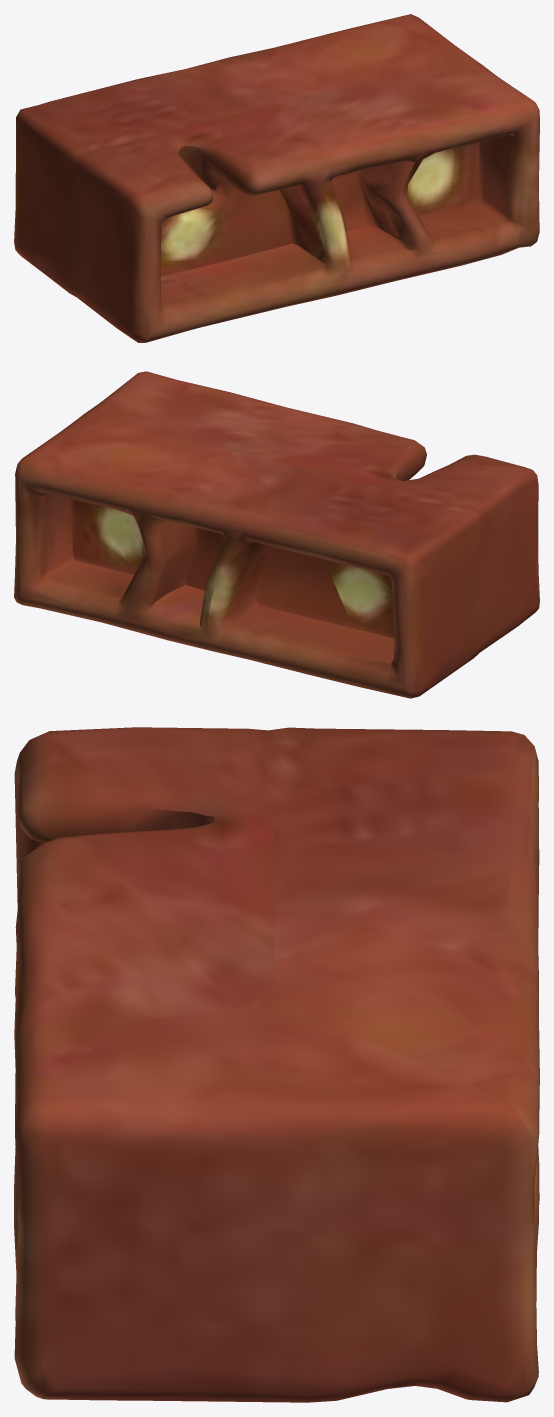
Rendered from sign_dash_idle.glb.
The picture shows the model from 3 angles, top to bottom: view 1: azimuth 30°, elevation 25°; view 2: azimuth 150°, elevation 25°; view 3: azimuth 270°, elevation 25°; orthographic projection. The views are drawn at different scales.
Parts seen in each view (by area): view 1: tmp_digits_4_9_signs_08; view 2: tmp_digits_4_9_signs_08; view 3: tmp_digits_4_9_signs_08.
Part boxes in pixels (x1=…): tmp_digits_4_9_signs_08: x1=14, y1=14, x2=539, y2=342; tmp_digits_4_9_signs_08: x1=14, y1=371, x2=539, y2=698; tmp_digits_4_9_signs_08: x1=14, y1=727, x2=539, y2=1402.
Bounding box in the file's own units: 0.5609 × 0.1986 × 0.3144.
Materials: 1 (1 with a texture image).
